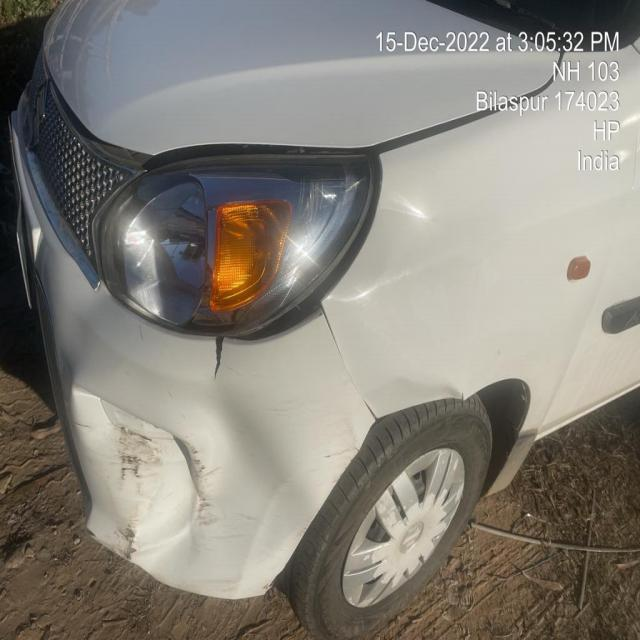damage: (65, 385, 316, 589), (326, 208, 415, 310), (345, 375, 466, 447), (50, 271, 104, 395), (212, 335, 229, 376)
